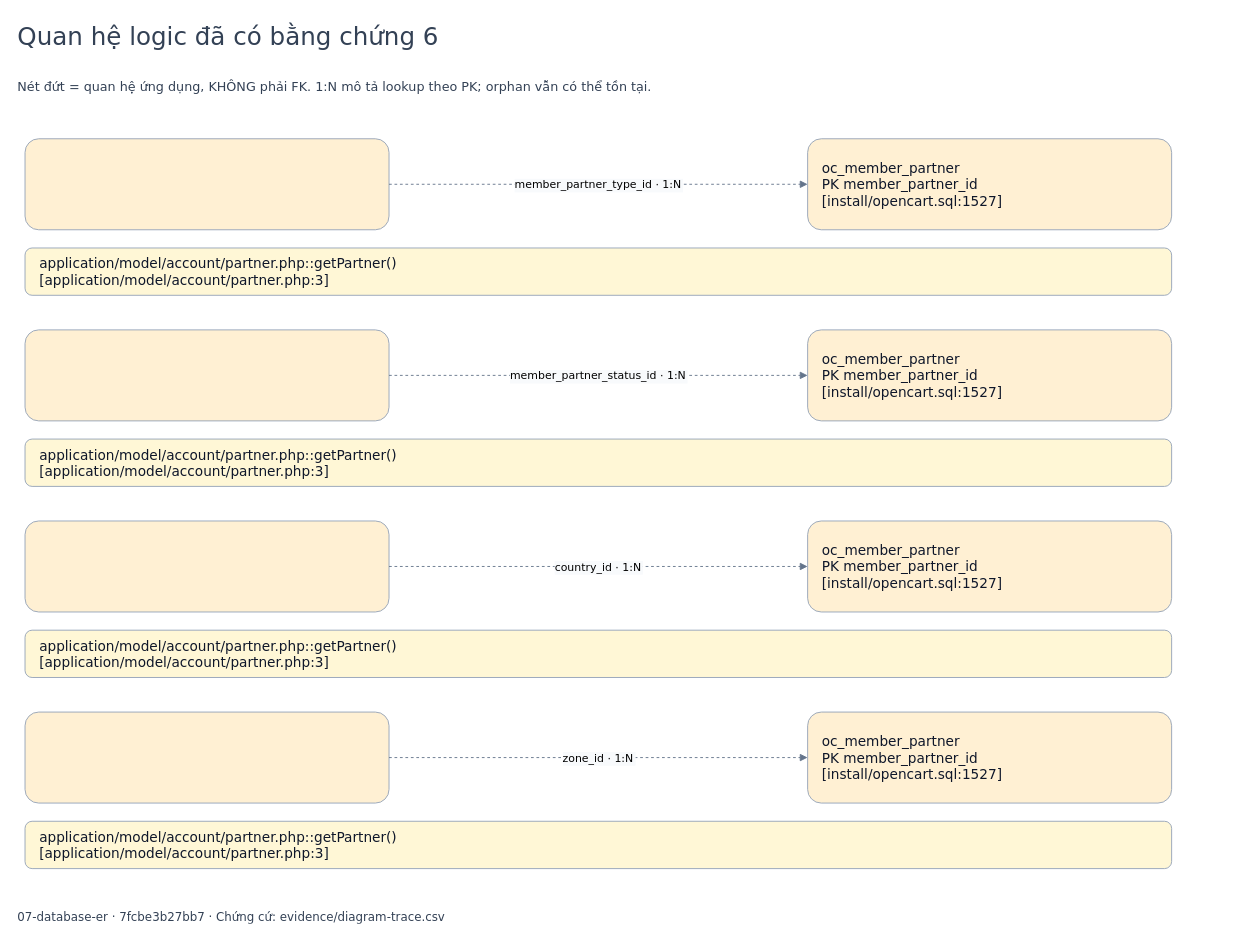
Some shapes in this 1250 by 945 pixel diagram are drawn without their labels. The centre of each missing label's shape, as x and y in pixels:
"oc_country PK country_id [install/opencart.sql:173]" belongs at pixel 206 566.
"oc_member_partner_status PK member_partner_status_id [install/opencart.sql:1572]" belongs at pixel 206 375.
"oc_member_partner_type PK member_partner_type_id [install/opencart.sql:1590]" belongs at pixel 206 184.
"oc_zone PK zone_id [install/opencart.sql:2246]" belongs at pixel 206 757.
